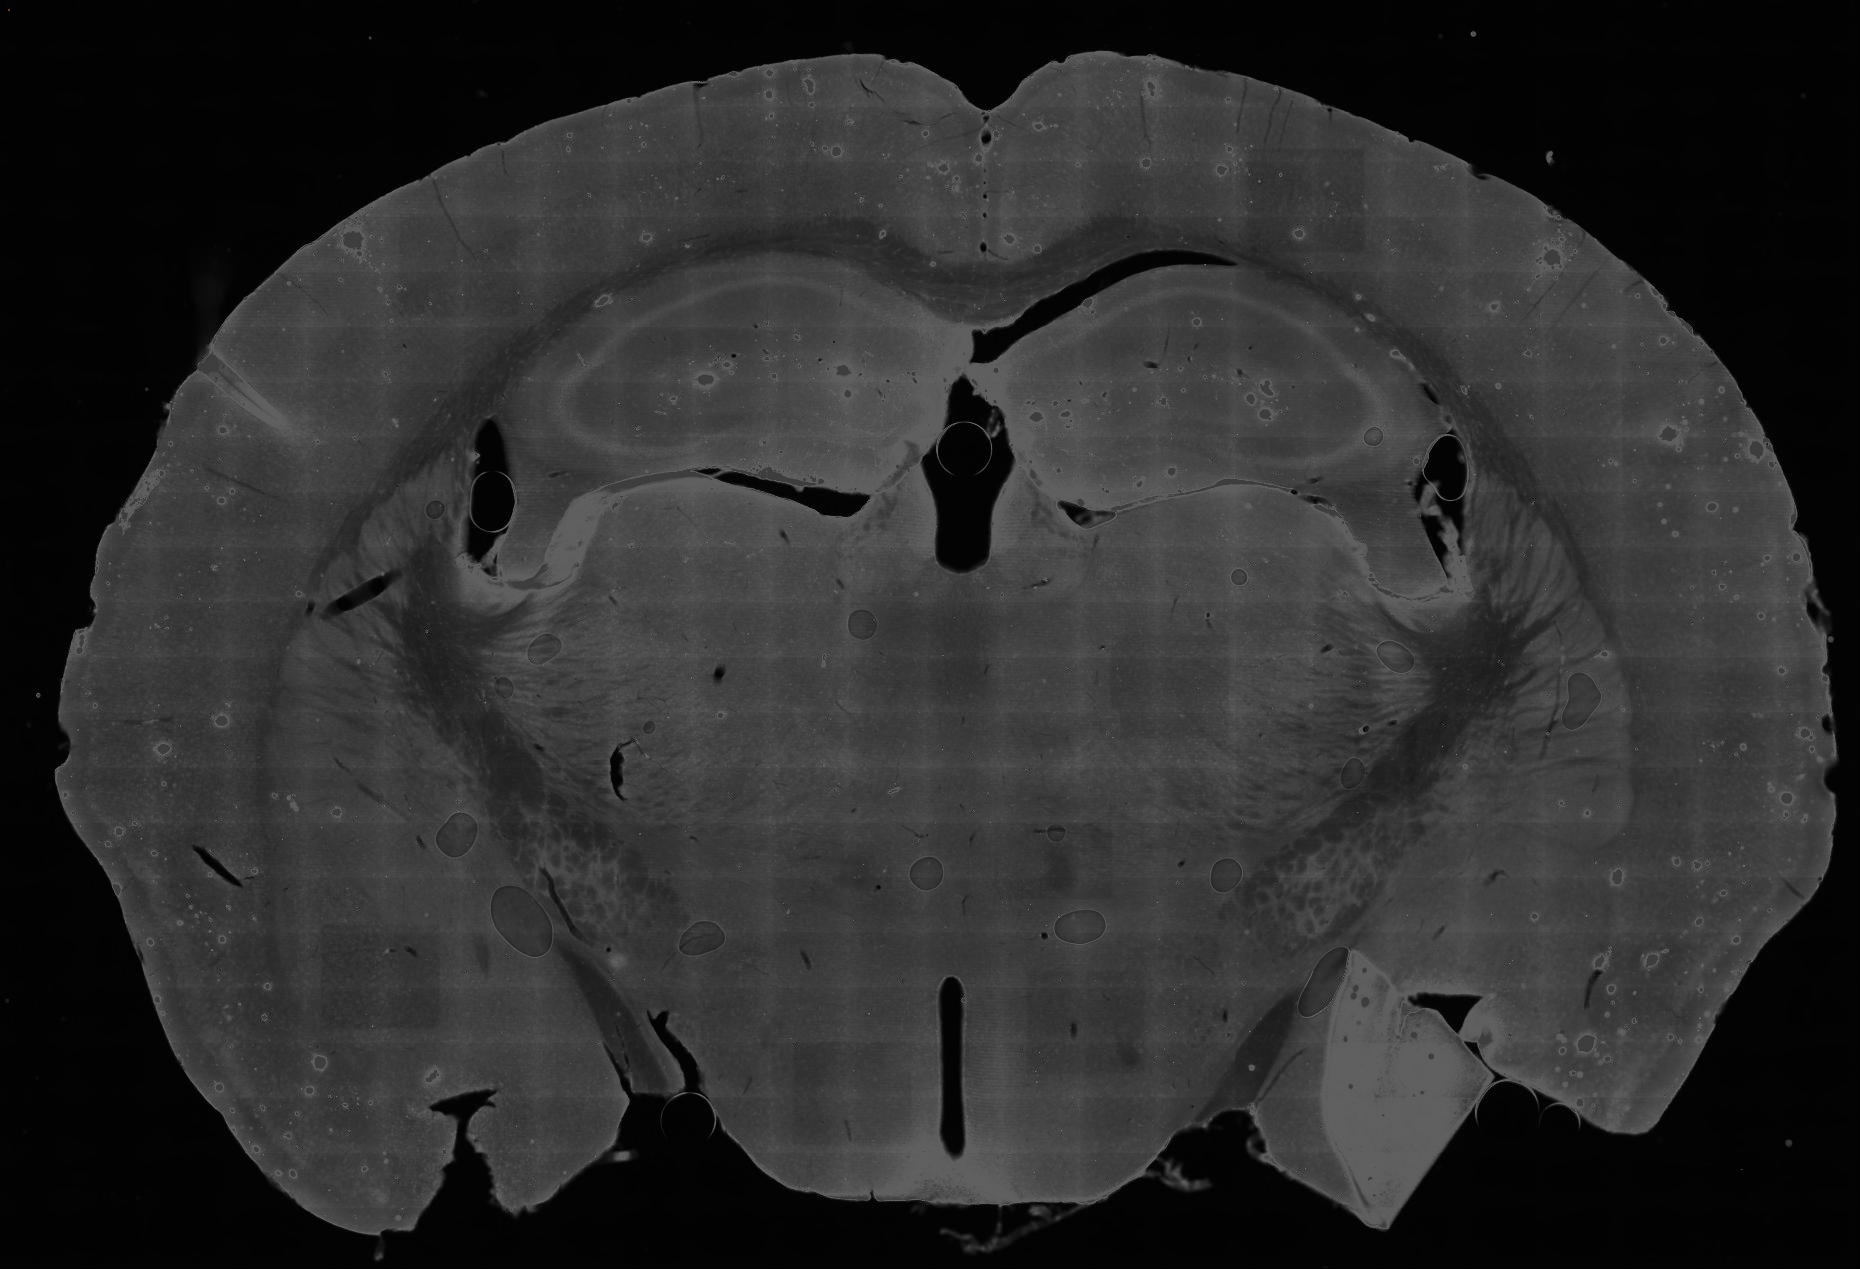Cerebral nuclei: (269, 448, 483, 965), (1467, 471, 1634, 899)
Hippocampal formation: (963, 263, 1422, 512), (509, 250, 974, 493)
Hypothalamus: (572, 852, 954, 1207), (953, 870, 1322, 1205)
Retrosplenial area: (985, 59, 1108, 264), (868, 62, 987, 264)
Somatosensory area: (113, 95, 671, 609), (1283, 100, 1802, 589)
Thalamus: (464, 442, 961, 886), (954, 462, 1433, 886)
